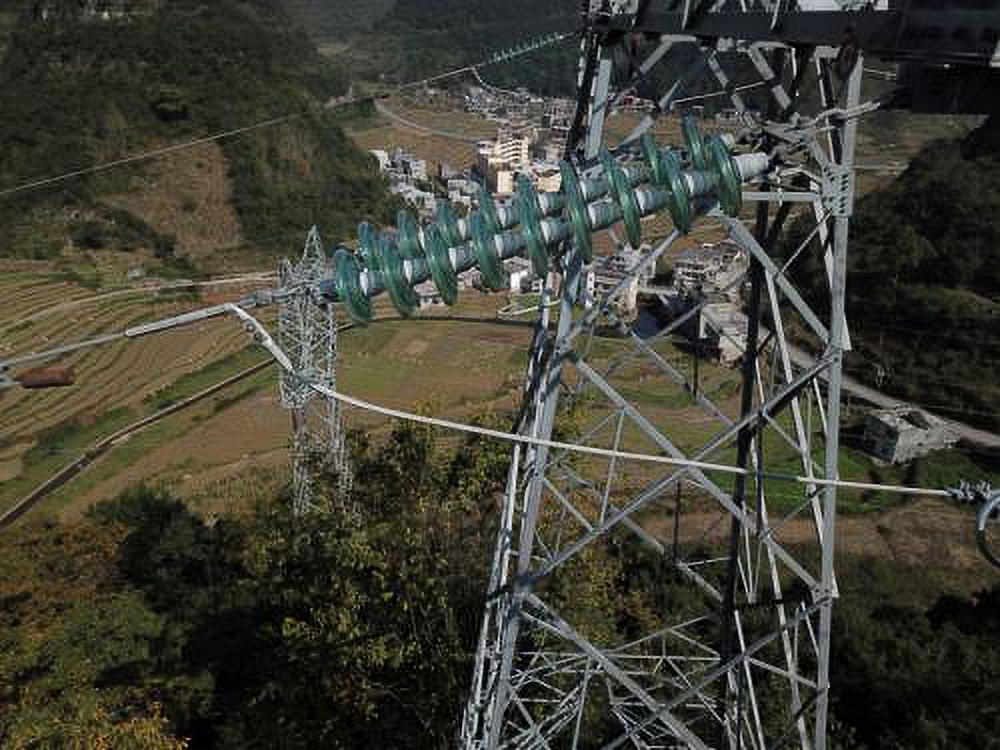insulator: (325, 110, 750, 334), (489, 28, 563, 69)
